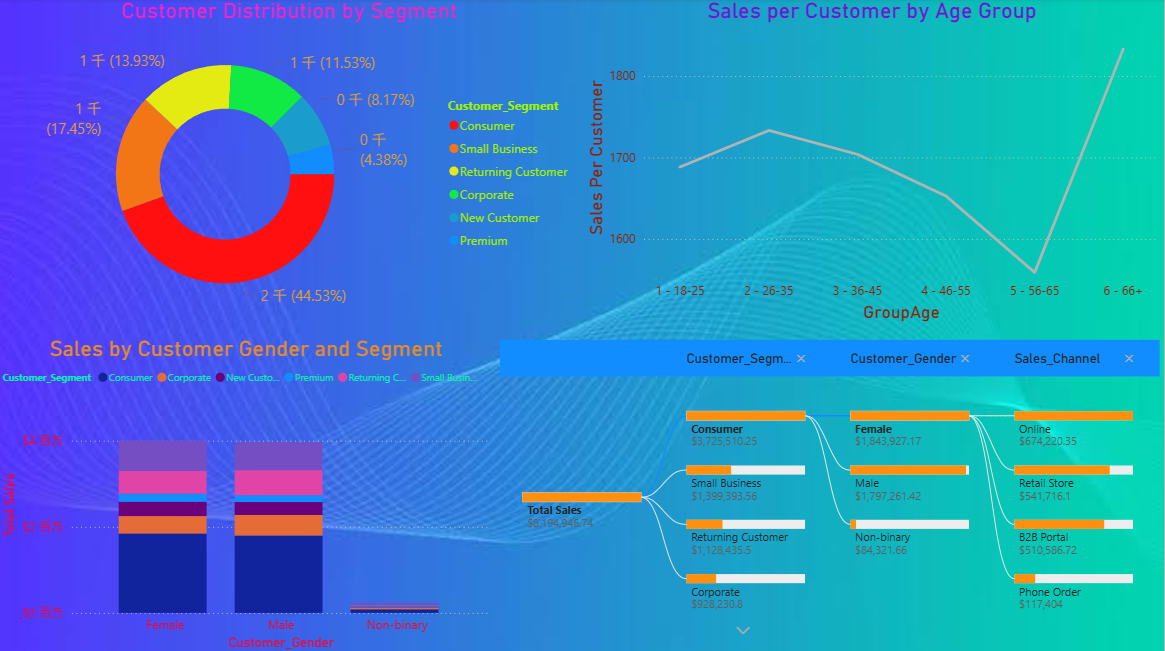

This screenshot's page, from the dashboard's own definition file:
{"tool":"powerbi","page":{"name":"Customer Segmentation & Sales Analysis","canvas":[1280,720],"ordinal":2},"visuals":[{"type":"donutChart","title":"Customer Distribution by Segment","fields":{"Category":["DimCustomer.Customer_Segment"],"Y":["FactSales.Total Customers"]},"box":[0,0,640,360],"z":0},{"type":"columnChart","title":"Sales by Customer Gender and Segment","fields":{"Category":["DimCustomer.Customer_Gender"],"Y":["FactSales.Total Sales"],"Series":["DimCustomer.Customer_Segment"]},"box":[0,370,545,350],"z":1000},{"type":"lineChart","title":"Sales per Customer by Age Group","fields":{"Category":["DimCustomer.GroupAge"],"Y":["FactSales.Sales Per Customer"]},"box":[640,0,640,360],"z":2000},{"type":"decompositionTreeVisual","fields":{"Analyze":["FactSales.Total Sales"],"ExplainBy":["DimCustomer.Customer_Segment","DimCustomer.Customer_Gender","DimChannel.Sales_Channel"]},"box":[545.7,370,734.3,350],"z":3000}]}

Visuals, with their boxes in screenshot pixels (x1, y1, x2, y2), scaled from the page's 1280x720 canvas onto the 1165x651 screenshot:
"Customer Distribution by Segment" donutChart: Rect(0, 0, 582, 326)
"Sales by Customer Gender and Segment" columnChart: Rect(0, 335, 496, 650)
"Sales per Customer by Age Group" lineChart: Rect(582, 0, 1164, 326)
decompositionTreeVisual - FactSales.Total Sales x DimCustomer.Customer_Segment: Rect(497, 335, 1164, 650)
